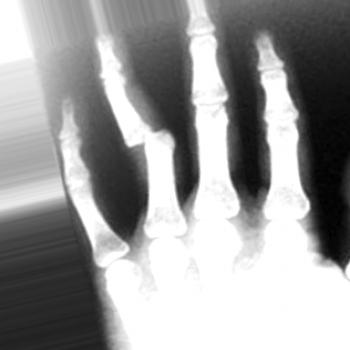Fracture: (123, 120, 175, 154)
